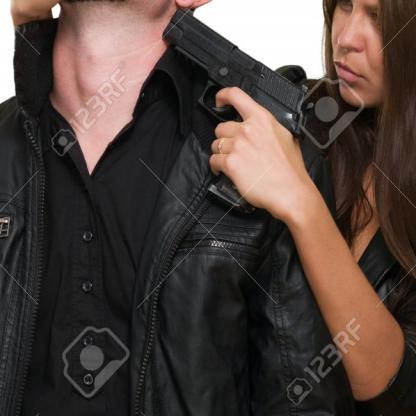gun: (162, 6, 315, 216)
